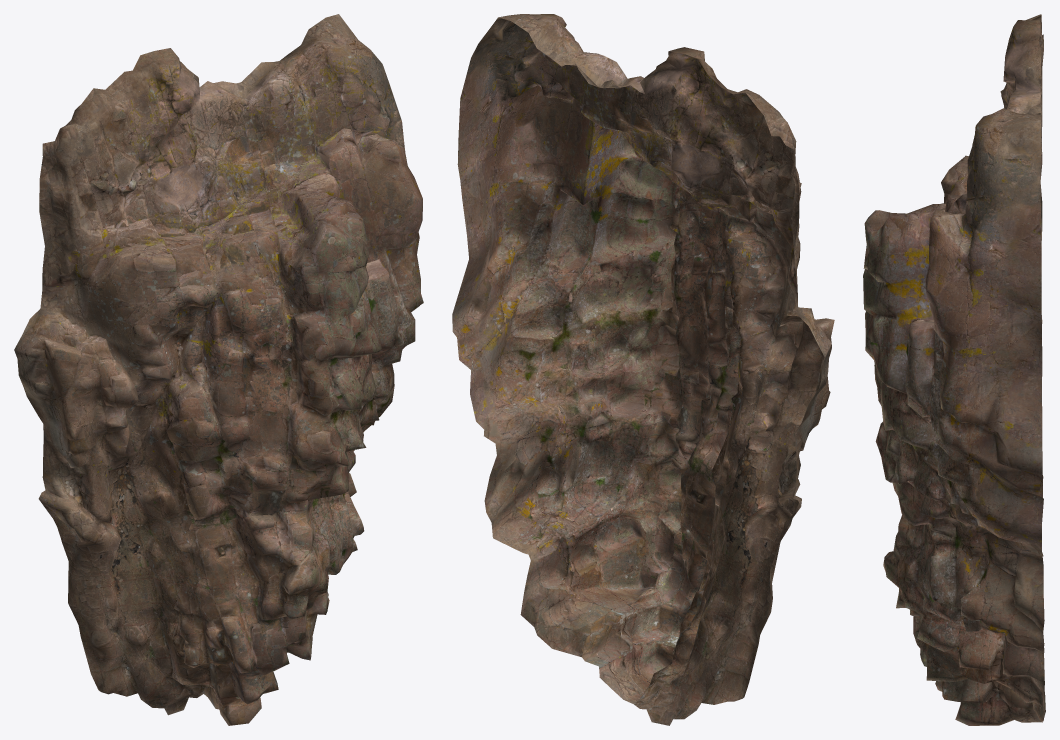
File: rock03.fbx
The picture shows the model from 3 angles, left to right: view 1: azimuth 30°, elevation 25°; view 2: azimuth 150°, elevation 25°; view 3: azimuth 270°, elevation 25°; orthographic projection. The views are drawn at different scales.
Visible parts, largest first — view 1: rock03; view 2: rock03; view 3: rock03.
Boxes of the visible parts, box(x1,y1,x2,y2) form: rock03: box(14, 14, 423, 725); rock03: box(452, 14, 834, 725); rock03: box(863, 14, 1045, 725).
Bounding box in the file's own units: 861 × 1491 × 360.
